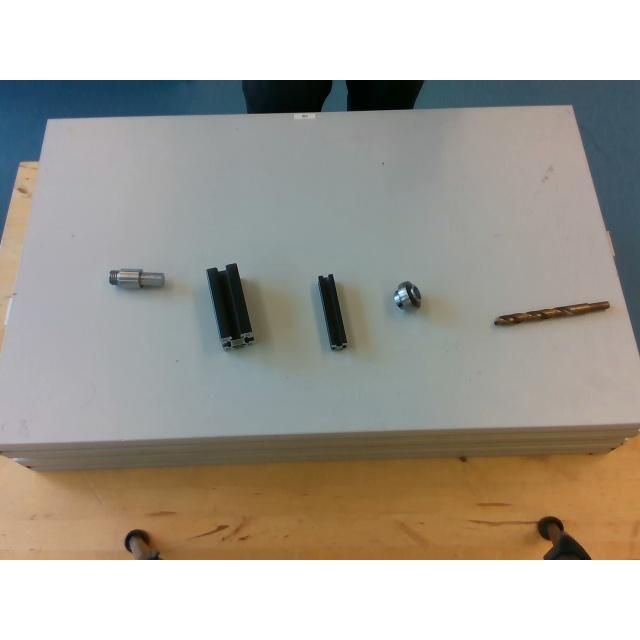Axis2: (107, 264, 165, 292)
Bearing2: (394, 281, 422, 311)
Drill: (494, 301, 610, 327)
M20_100: (318, 274, 347, 350)
S40_40_B: (207, 263, 253, 347)
